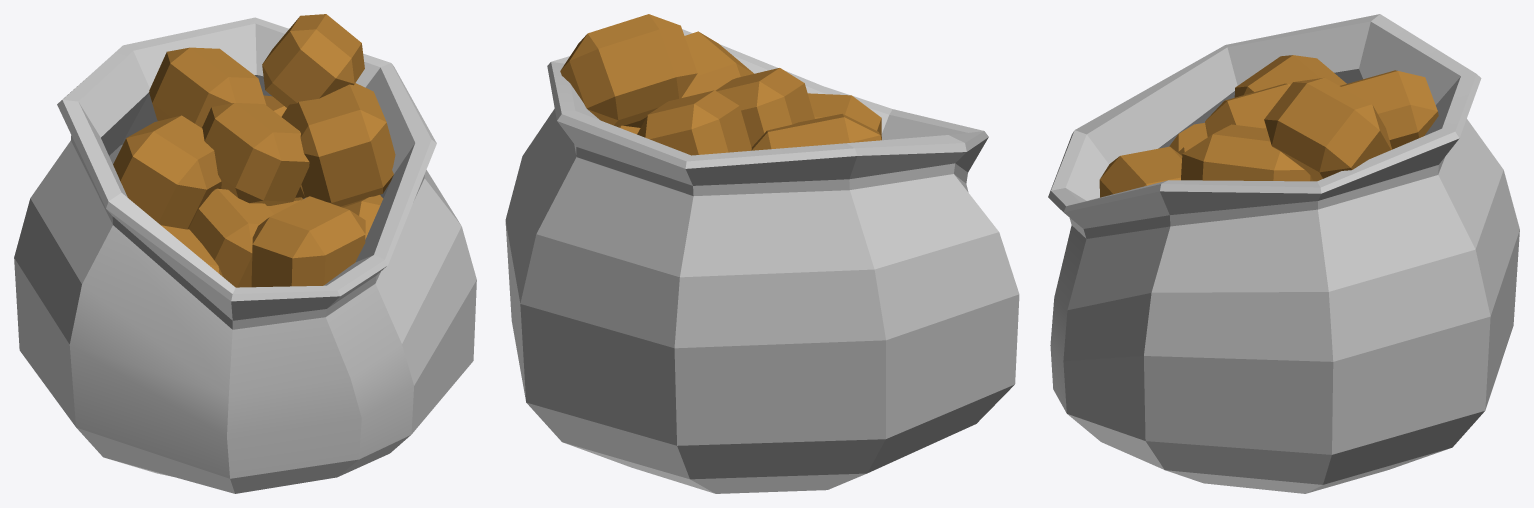
Rendered from urp 9.fbx.
The picture shows the model from 3 angles, left to right: view 1: azimuth 30°, elevation 25°; view 2: azimuth 150°, elevation 25°; view 3: azimuth 270°, elevation 25°; orthographic projection. The views are drawn at different scales.
Parts seen in each view (by area): view 1: urp 9; view 2: urp 9; view 3: urp 9.
Part boxes in pixels (bbox=[...]): urp 9: bbox=[14, 14, 476, 493]; urp 9: bbox=[505, 14, 1019, 493]; urp 9: bbox=[1048, 14, 1519, 493].
Size of the model in its own units: 93.2 by 82.57 by 87.99.
